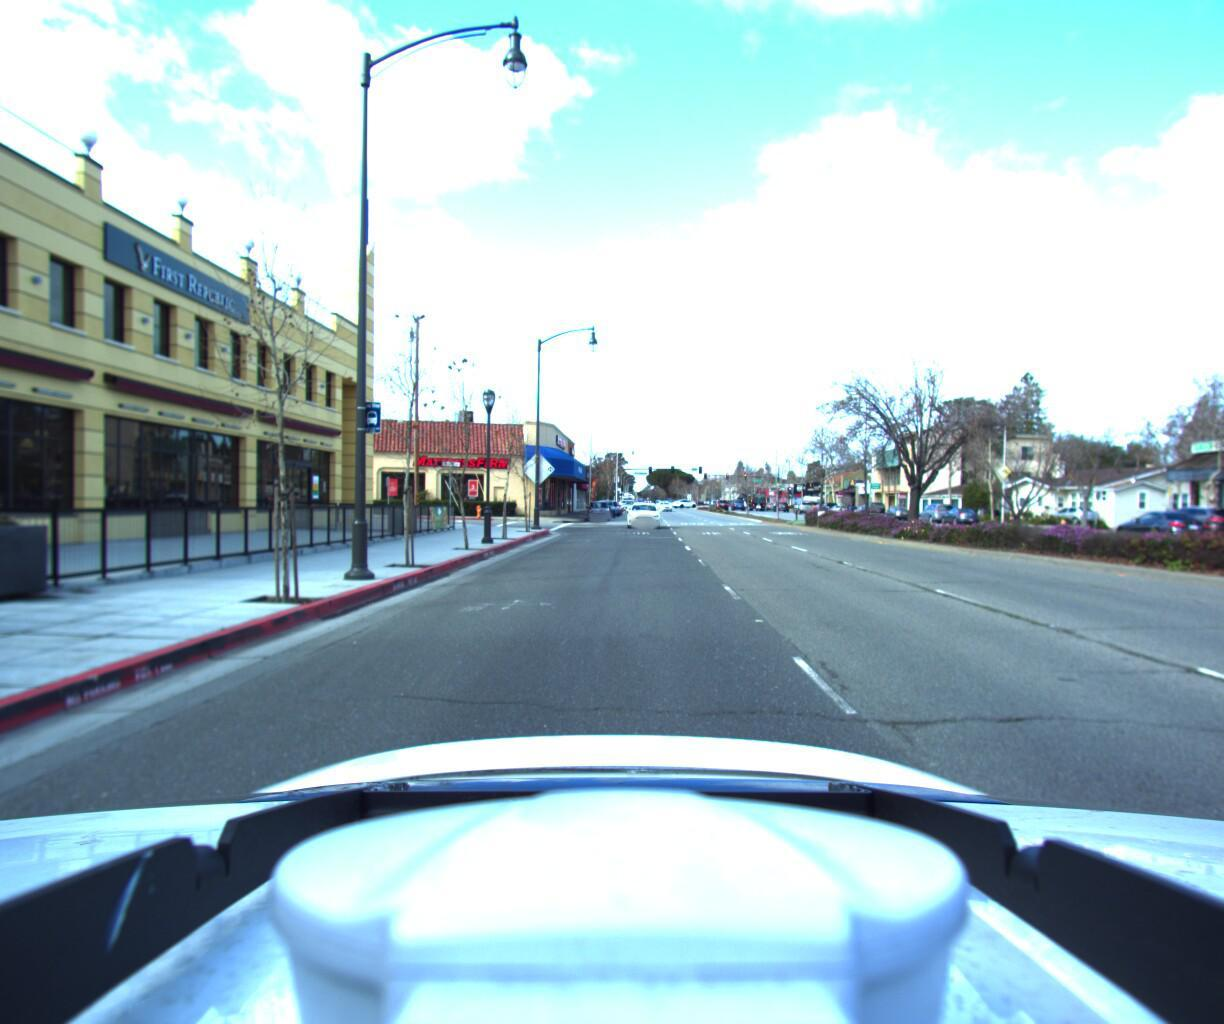car: (1099, 504, 1203, 544), (1137, 505, 1224, 544), (1040, 505, 1105, 524), (624, 500, 660, 529), (912, 502, 957, 524), (935, 507, 979, 525), (584, 500, 610, 521), (1223, 504, 1224, 551)
